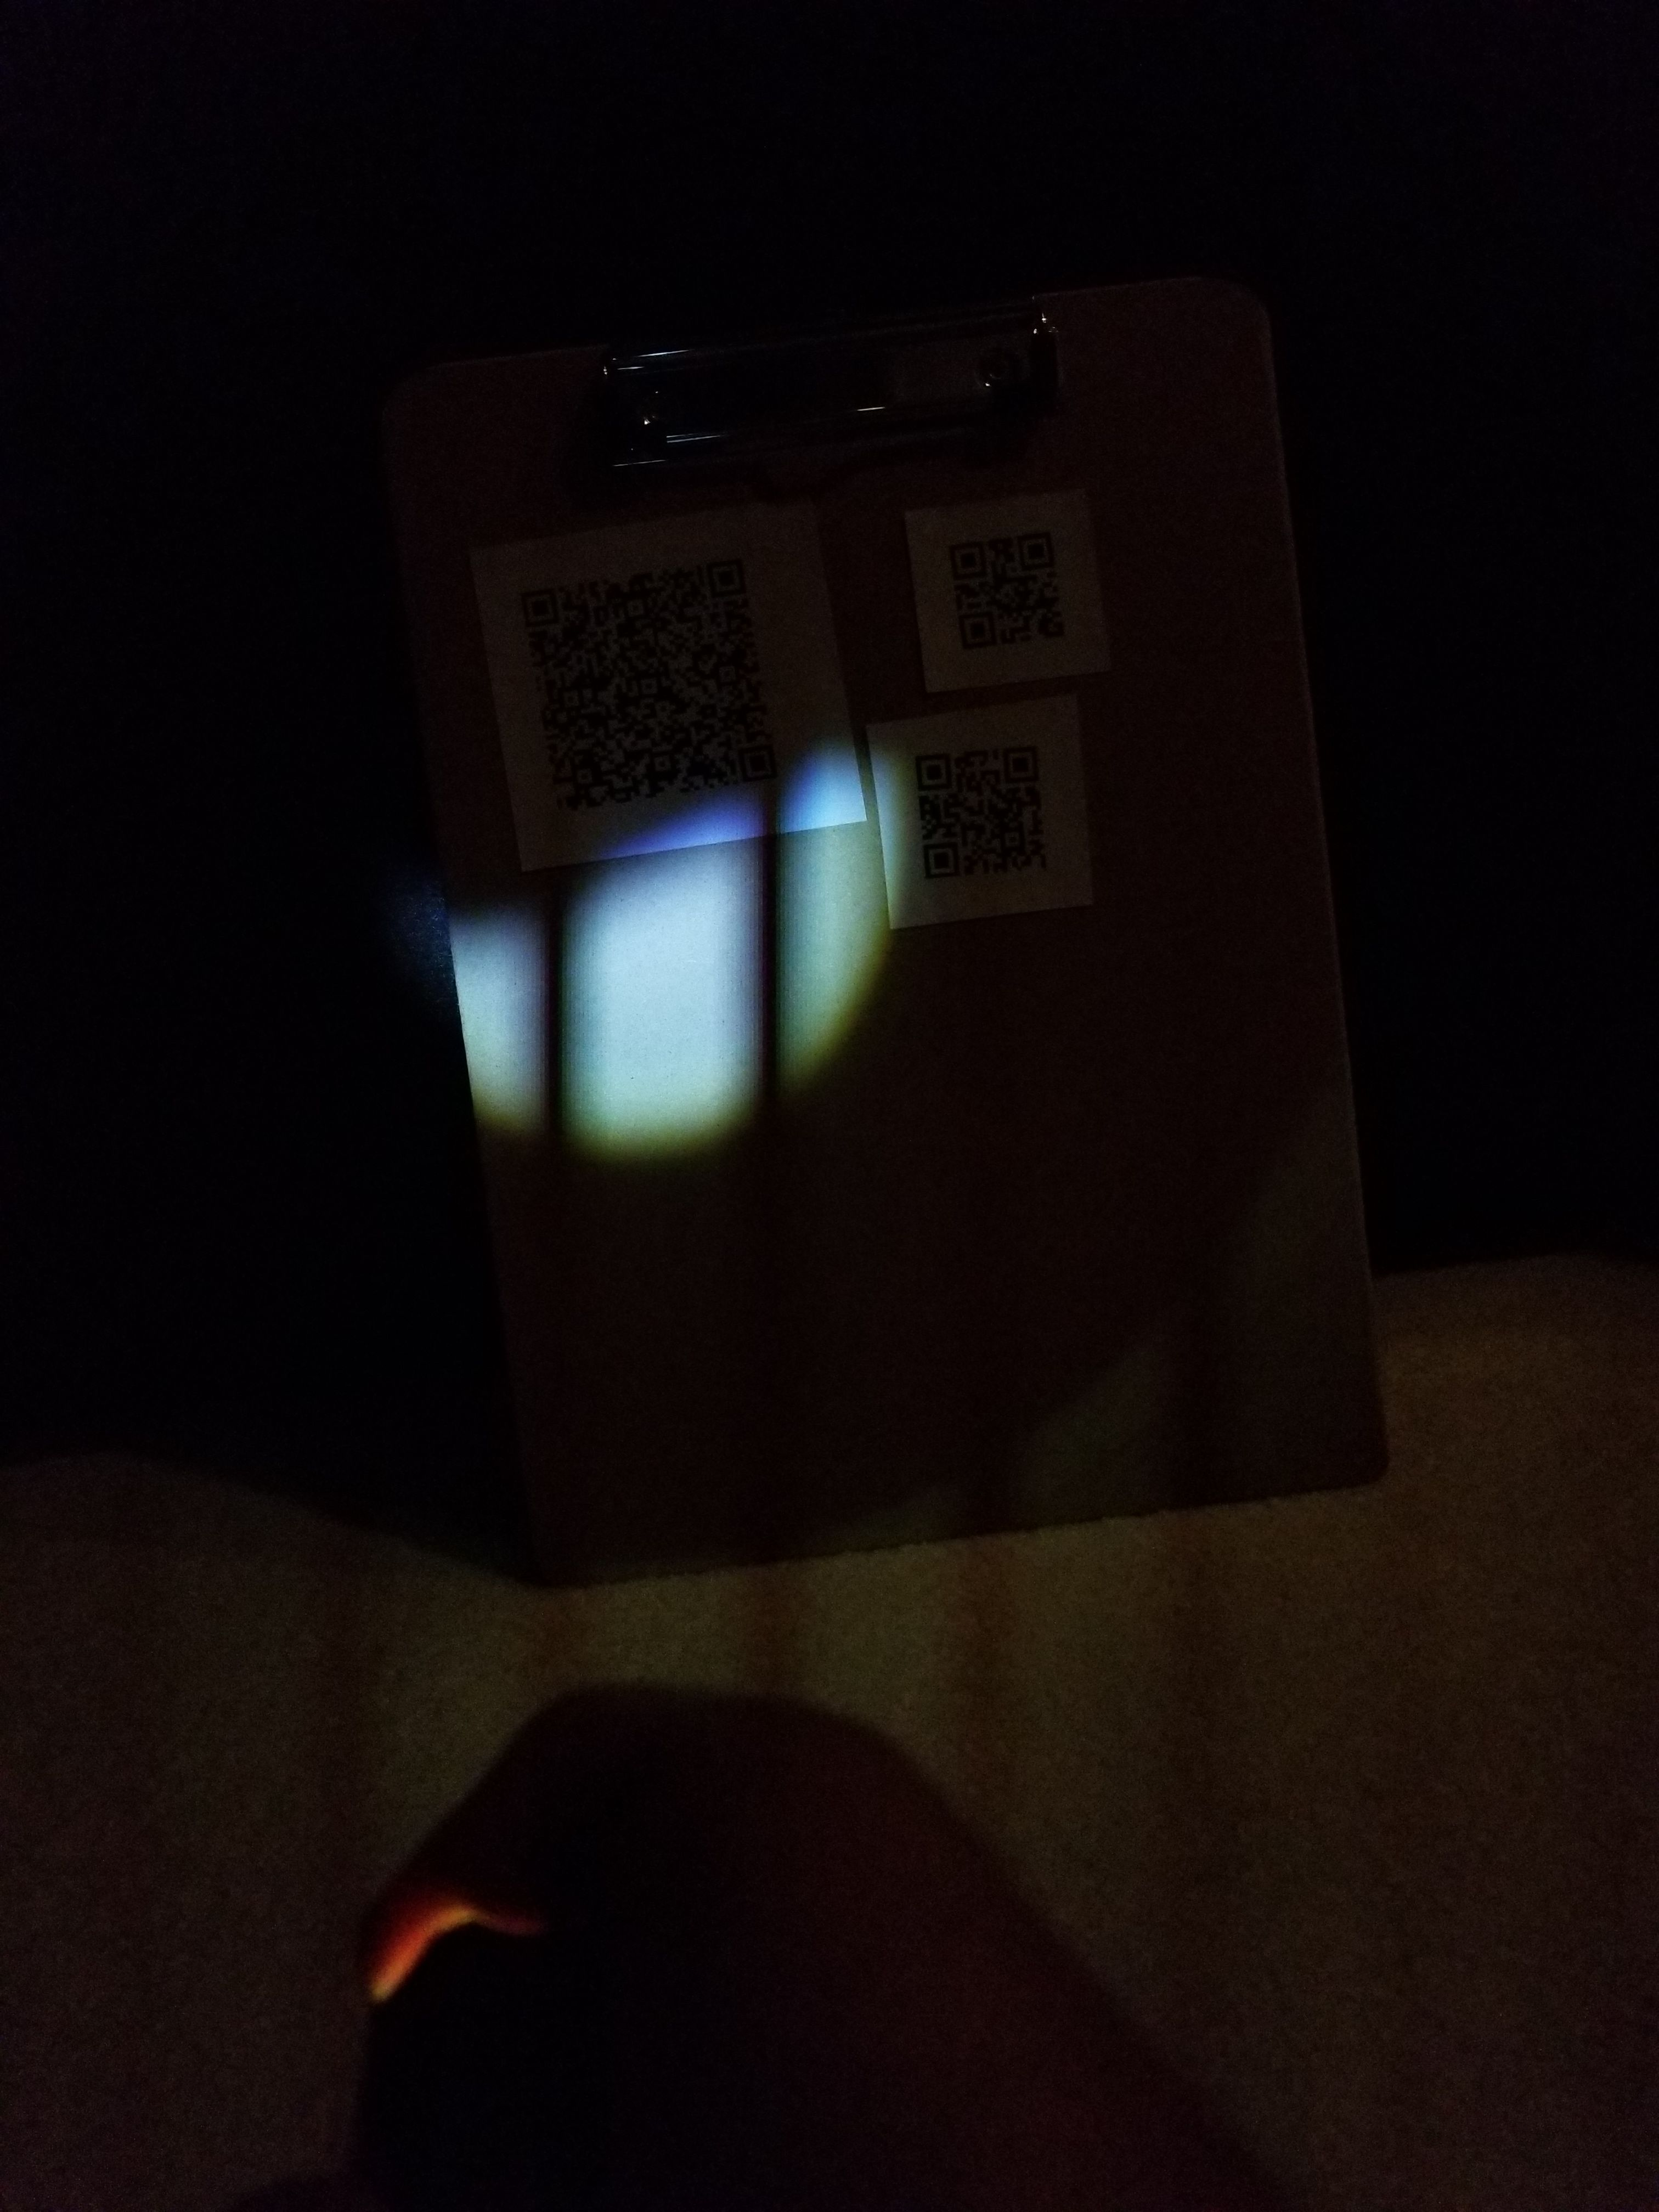QR_CODE: (498, 528, 796, 838), (887, 723, 1077, 911), (924, 495, 1084, 669)
